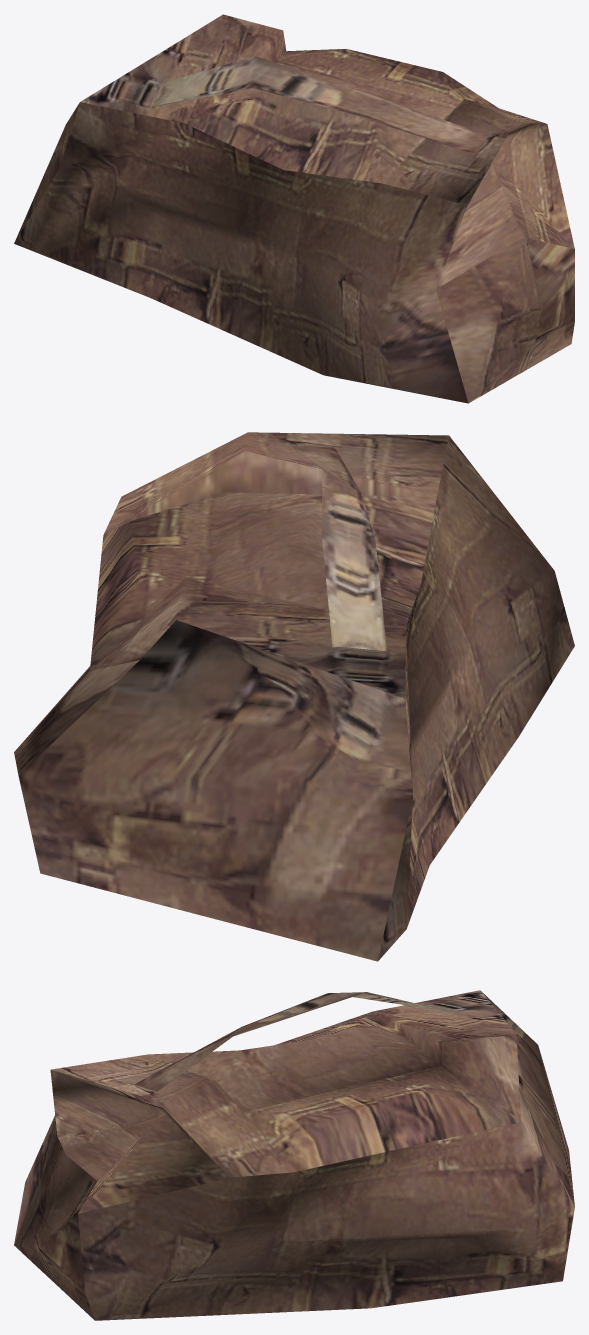
Rendered from cindufl1.glb.
The picture shows the model from 3 angles, top to bottom: view 1: azimuth 30°, elevation 25°; view 2: azimuth 150°, elevation 25°; view 3: azimuth 270°, elevation 25°; orthographic projection. The views are drawn at different scales.
Visible parts, largest first — view 1: _cindufl1; view 2: _cindufl1; view 3: _cindufl1.
Boxes of the visible parts, box(x1,y1,x2,y2) form: _cindufl1: box(14, 14, 574, 403); _cindufl1: box(14, 432, 574, 961); _cindufl1: box(14, 990, 574, 1320).
Bounding box in the file's own units: 0.5632 × 0.3427 × 0.7308.
1 material, 1 textured.
